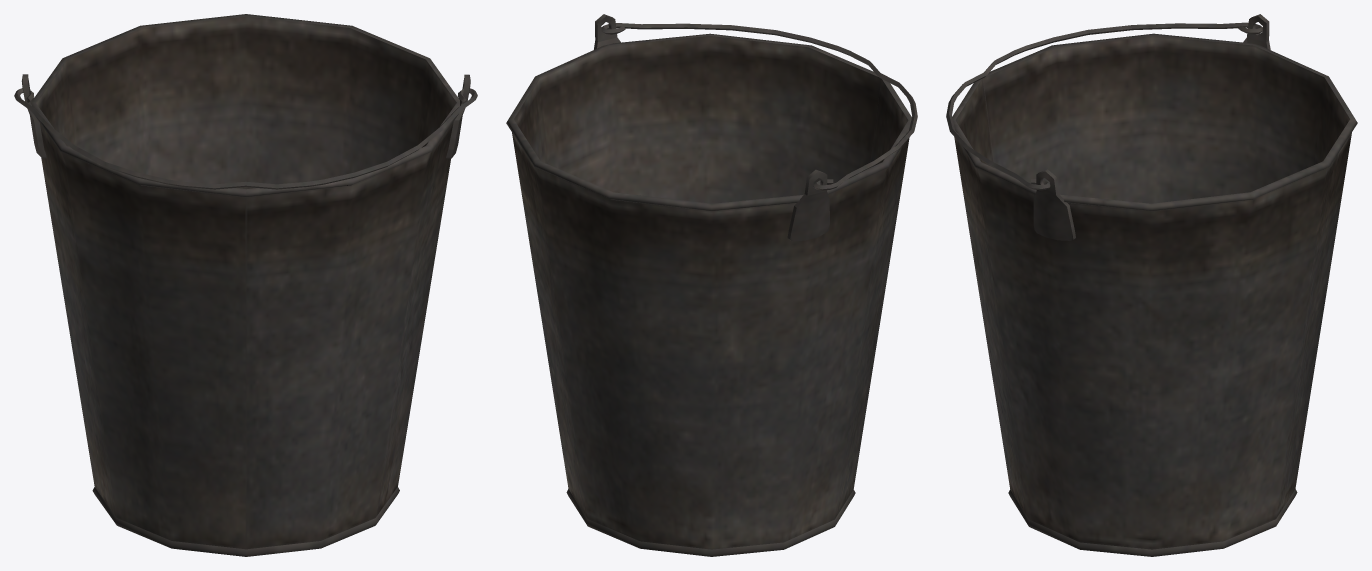
The model's file is bucket_mx_3.dae.
3 views of the same model, side by side, from view 1: azimuth 30°, elevation 25°; view 2: azimuth 150°, elevation 25°; view 3: azimuth 270°, elevation 25° (orthographic). The views are drawn at different scales.
Parts seen in each view (by area): view 1: bucket_mx_3; view 2: bucket_mx_3; view 3: bucket_mx_3.
Part boxes in pixels (x1,y1,x2,y2): bucket_mx_3: (14,14,477,556); bucket_mx_3: (506,14,917,556); bucket_mx_3: (946,14,1357,556).
Size of the model in its own units: 0.4299 by 0.4298 by 0.4651.
1 material, 1 textured.
